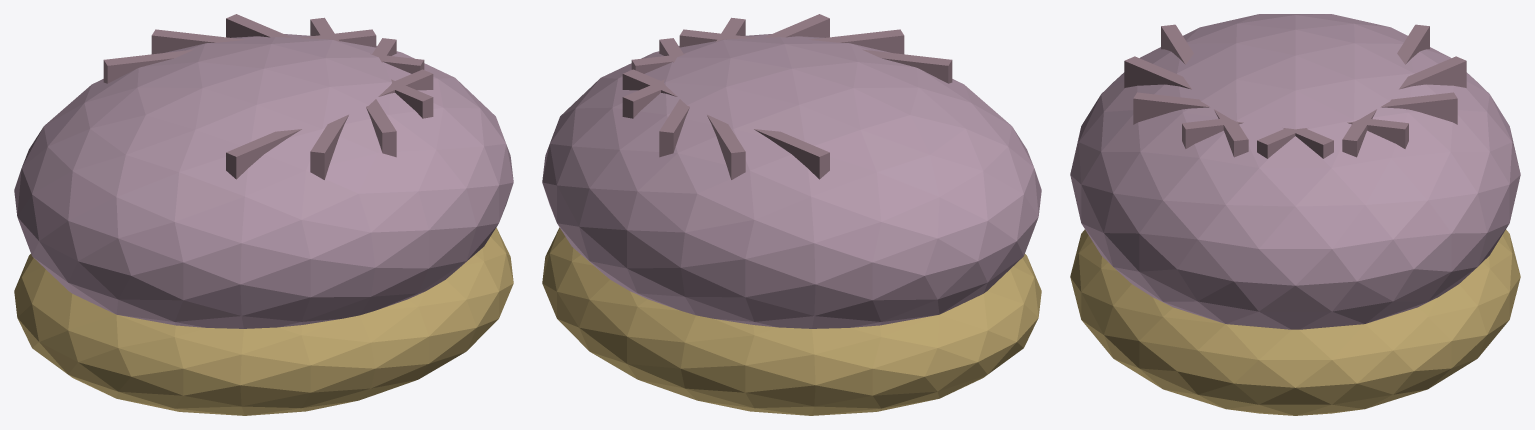
File: giant_clam.glb
The picture shows the model from 3 angles, left to right: view 1: azimuth 30°, elevation 25°; view 2: azimuth 150°, elevation 25°; view 3: azimuth 270°, elevation 25°; orthographic projection.
Visible parts, largest first — view 1: world; view 2: world; view 3: world.
Part boxes in pixels (bbox=[...]): world: bbox=[14, 14, 513, 415]; world: bbox=[542, 14, 1041, 415]; world: bbox=[1070, 14, 1520, 415].
Size of the model in its own units: 2.8 by 1.8 by 2.4.
